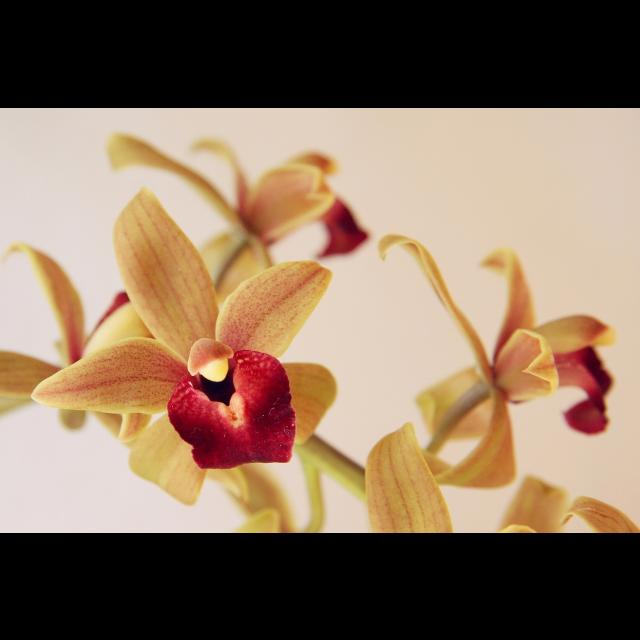Flower: (49, 182, 344, 473), (374, 232, 616, 490), (104, 126, 370, 308), (0, 239, 152, 449), (362, 422, 640, 532), (205, 462, 319, 532)
